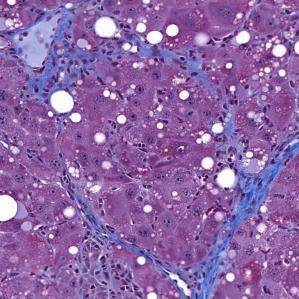fibrosis: (13, 13, 95, 101), (144, 248, 239, 294), (235, 140, 276, 220), (181, 52, 233, 114)
